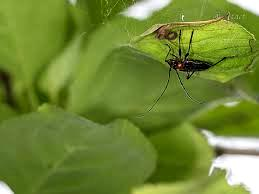Helopeltis-insect: (166, 49, 213, 79)
